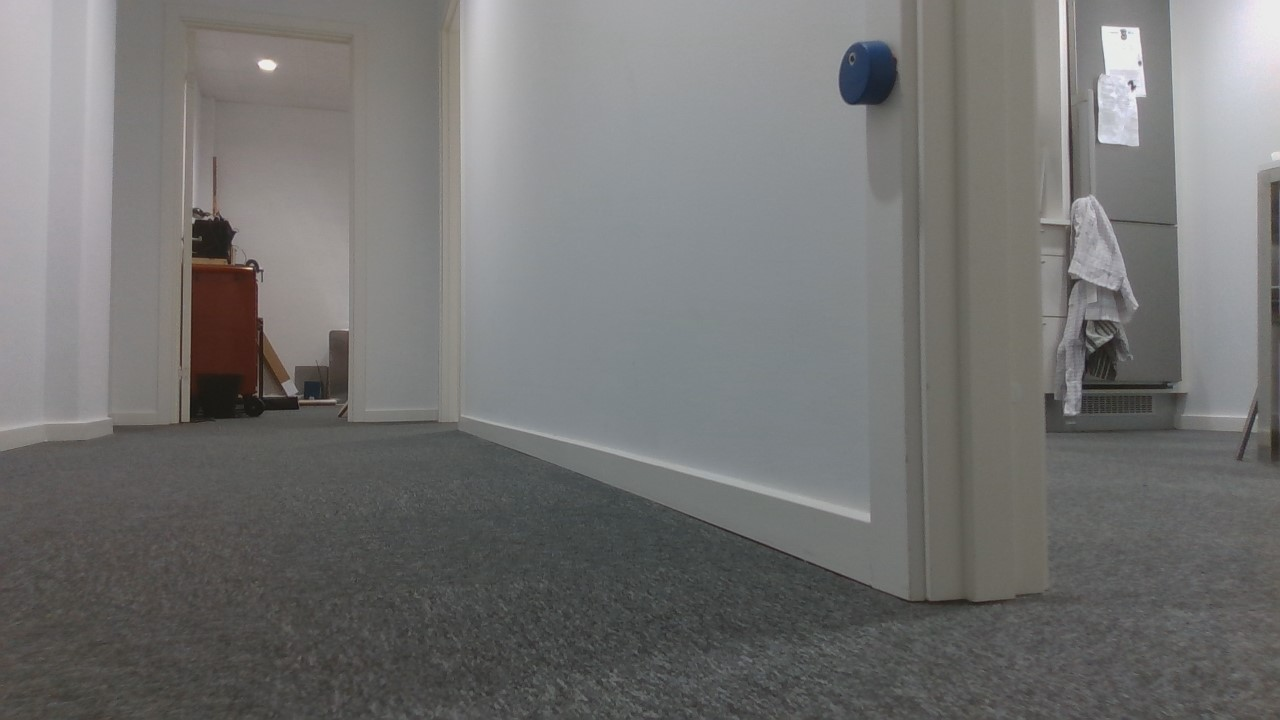alfa: (834, 36, 898, 108)
